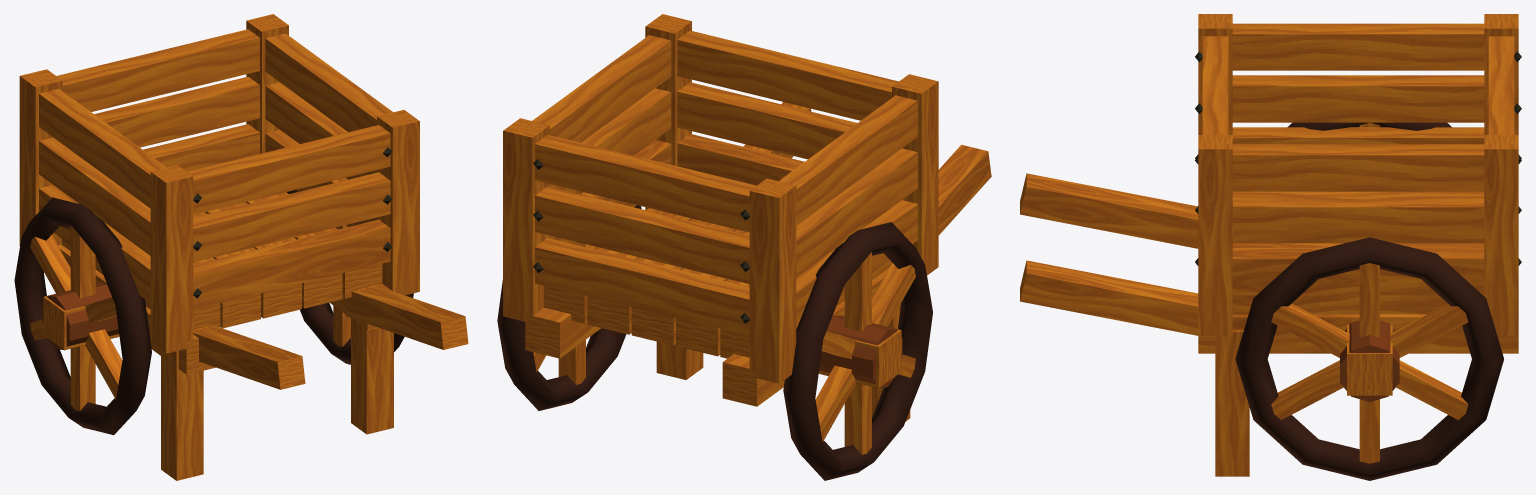
Rendered from handcart.obj.
3 views of the same model, side by side, from view 1: azimuth 30°, elevation 25°; view 2: azimuth 150°, elevation 25°; view 3: azimuth 270°, elevation 25° (orthographic). The views are drawn at different scales.
Visible parts, largest first — view 1: handcart; view 2: handcart; view 3: handcart.
Part boxes in pixels (left/top/right/bottom): handcart: left=14, top=14, right=468, bottom=480; handcart: left=497, top=14, right=991, bottom=480; handcart: left=1020, top=14, right=1521, bottom=480.
Size of the model in its own units: 0.71 by 0.65 by 0.8776.
Materials: 2 (2 with a texture image).
